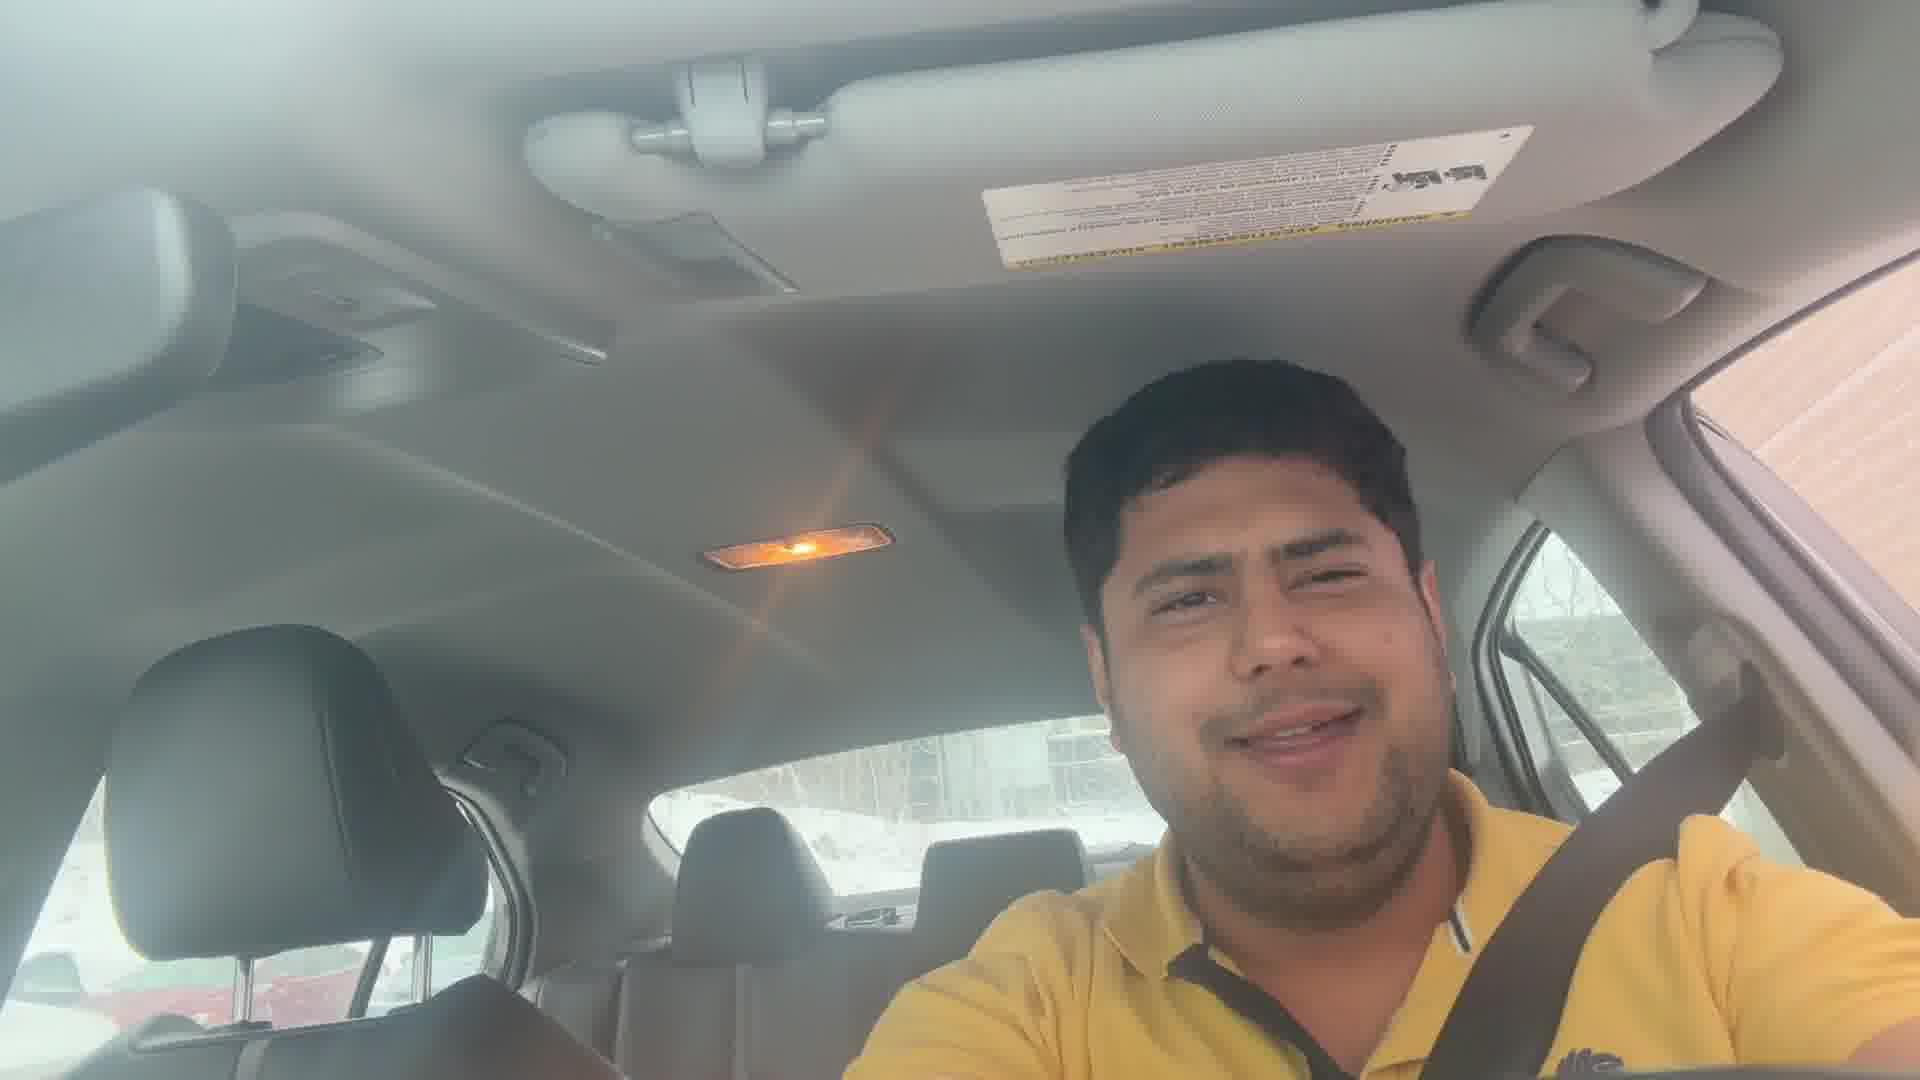seatbelt: (1436, 665, 1811, 1062)
